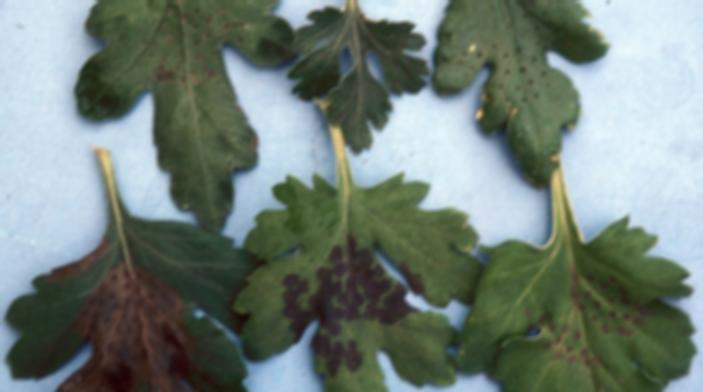Tomato leaf bacterial spot: (65, 0, 312, 247), (446, 174, 695, 392), (430, 0, 632, 211), (291, 0, 432, 149)
